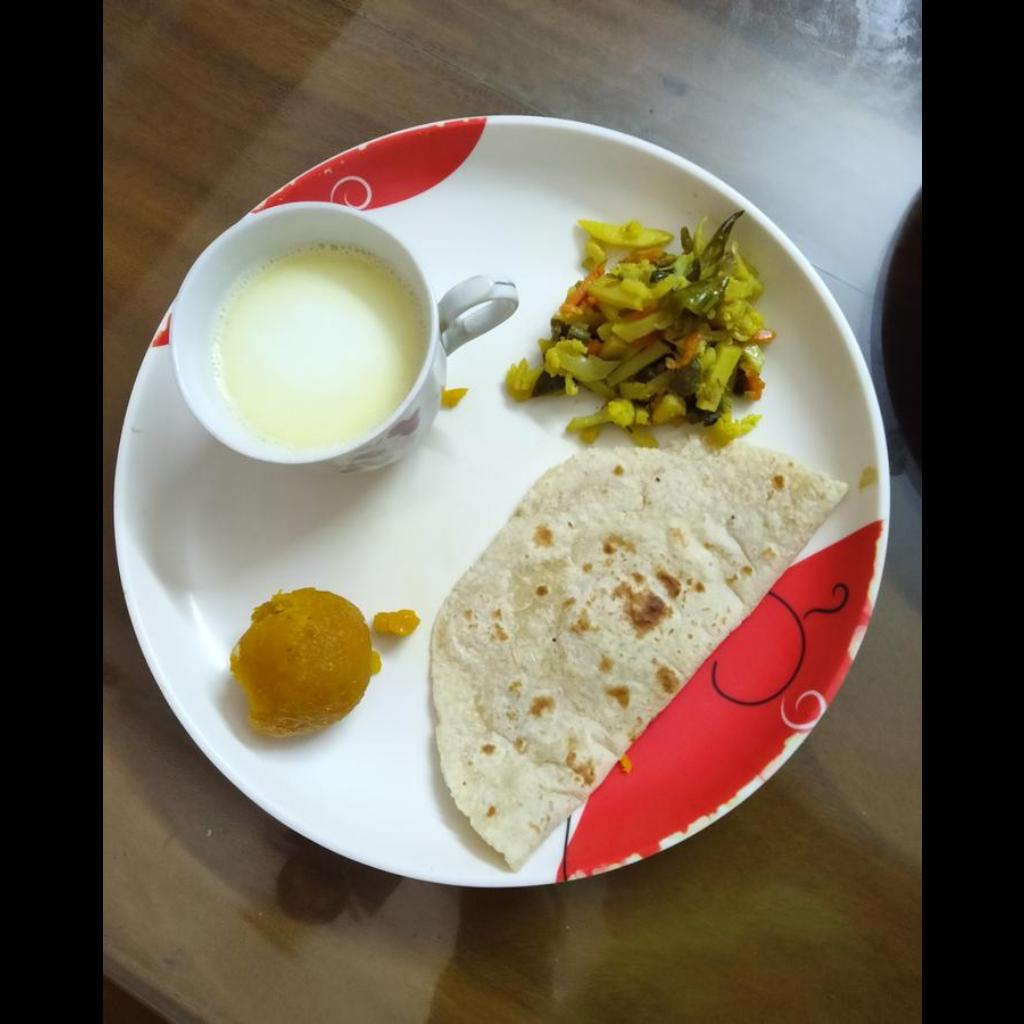milk: (211, 248, 420, 447)
ruti: (427, 435, 854, 870)
vaji: (512, 210, 771, 443)
